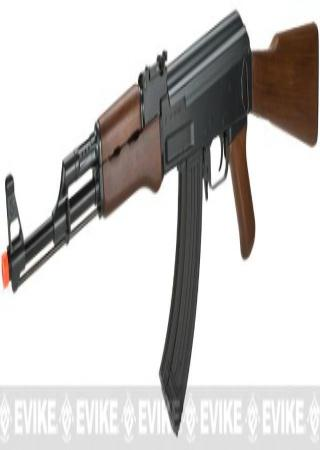weapon: (2, 8, 319, 437)
